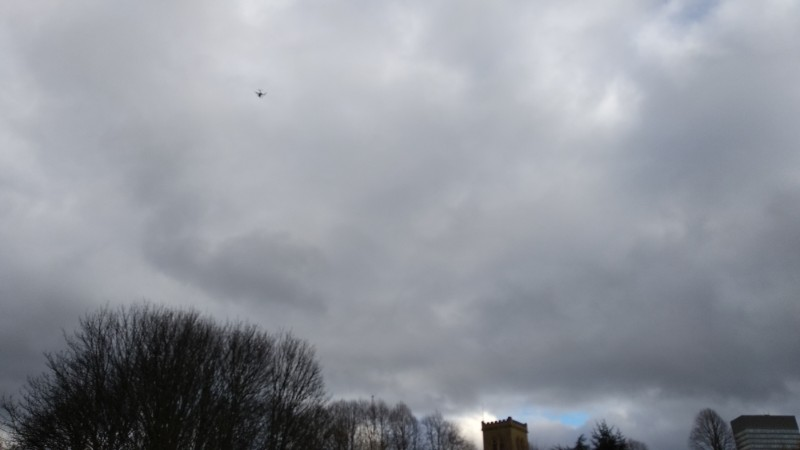drone: (256, 89, 268, 98)
